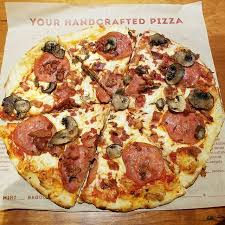pizza: (8, 28, 221, 202)
